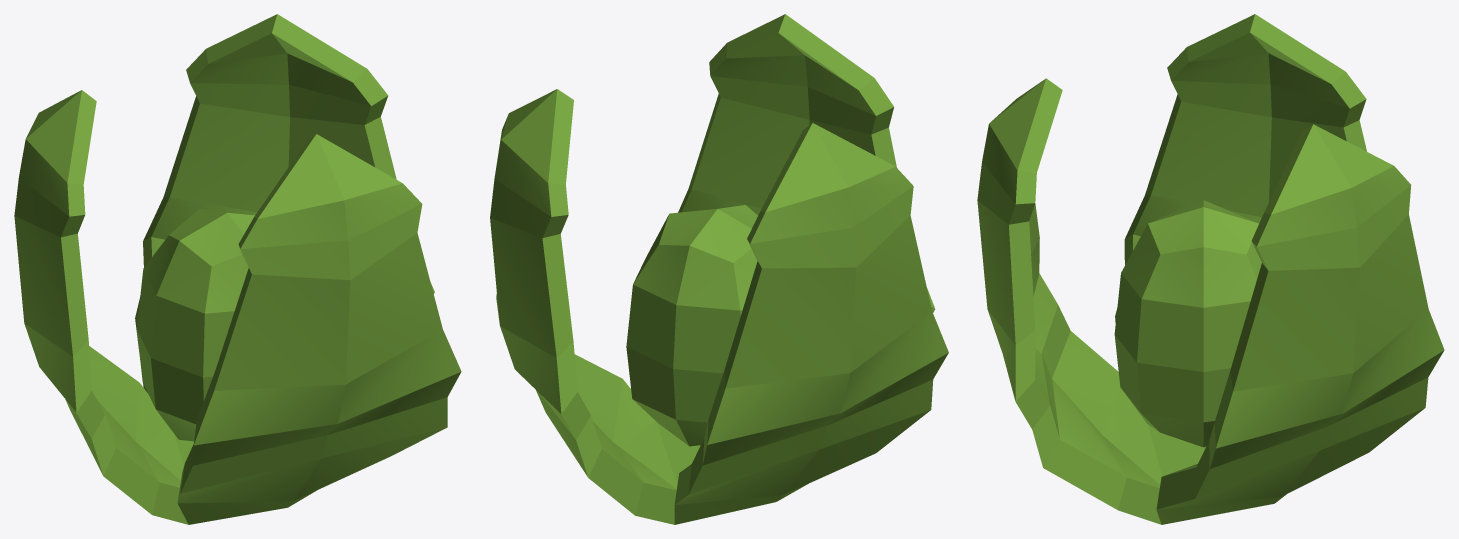
The model's file is prop_lettuce_2.glb.
3 views of the same model, side by side, from view 1: azimuth 30°, elevation 25°; view 2: azimuth 150°, elevation 25°; view 3: azimuth 270°, elevation 25° (orthographic).
Parts seen in each view (by area): view 1: interior; view 2: interior; view 3: interior.
Part boxes in pixels (left/top/right/bottom): interior: left=14, top=14, right=461, bottom=524; interior: left=490, top=14, right=948, bottom=524; interior: left=977, top=14, right=1444, bottom=524.
Size of the model in its own units: 0.3689 by 0.354 by 0.3673.
